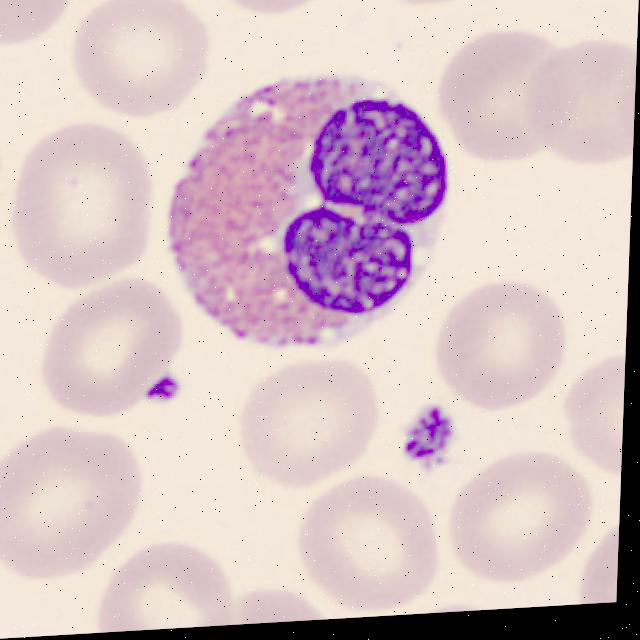eosinophil: (159, 55, 454, 360)
platelets: (399, 396, 464, 475)
rbc: (0, 421, 156, 586), (11, 127, 156, 295), (32, 277, 185, 428), (290, 473, 442, 620), (429, 33, 579, 172), (450, 451, 598, 587), (238, 354, 380, 495), (67, 0, 213, 124), (516, 36, 637, 182), (443, 273, 571, 404), (85, 539, 251, 634), (555, 358, 625, 481), (193, 584, 339, 627), (0, 0, 82, 65), (202, 0, 346, 31), (576, 512, 620, 604), (616, 49, 637, 157), (358, 0, 518, 14), (394, 600, 508, 615), (598, 0, 640, 14)
